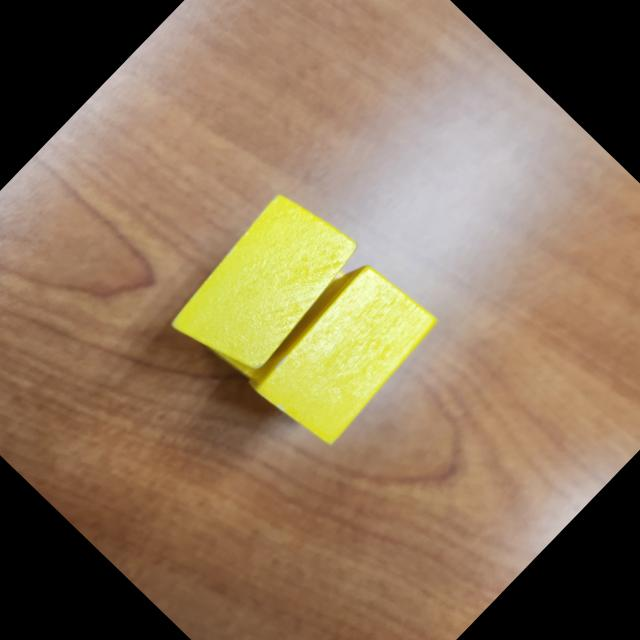yellow: (160, 182, 371, 394), (242, 249, 447, 456), (202, 234, 358, 392)
